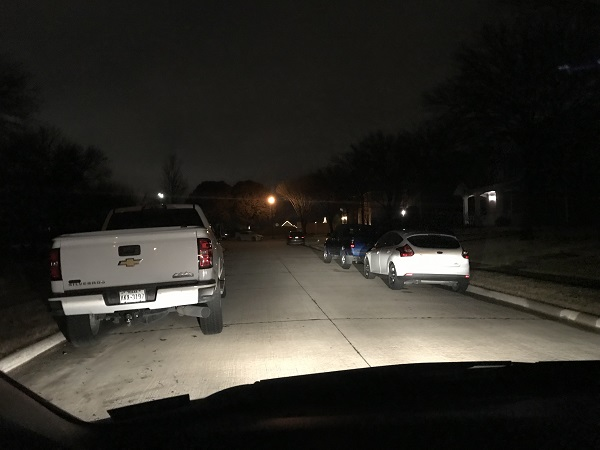car: (366, 228, 470, 290), (285, 226, 304, 245)
truck: (48, 204, 228, 342), (321, 221, 369, 269)
